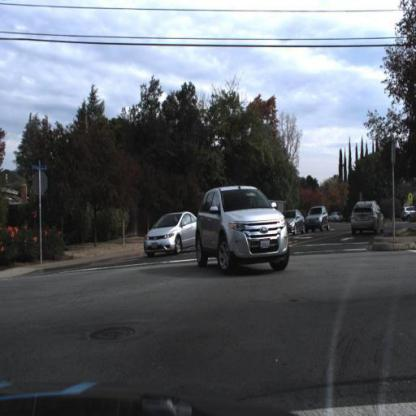car: (194, 186, 289, 274), (142, 210, 200, 256), (348, 196, 386, 244), (278, 208, 306, 235), (304, 206, 330, 233)
